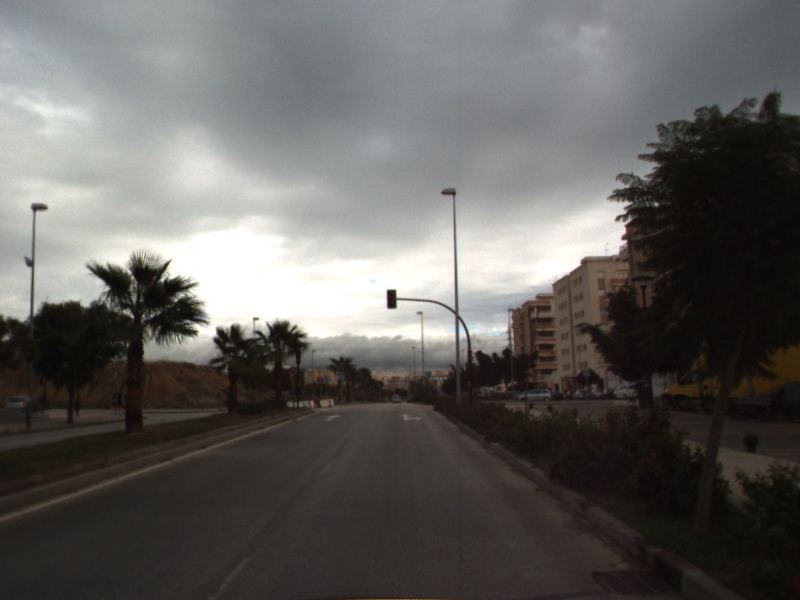STRAIGHT: (323, 412, 344, 423)
STRAIGHT_RIGHT: (398, 412, 424, 422)
